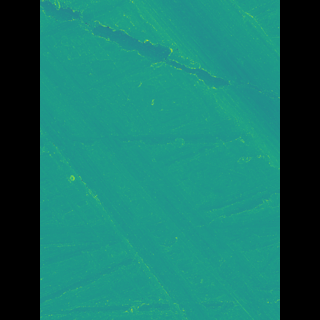Loch: (69, 30, 199, 320), (143, 0, 248, 175)
